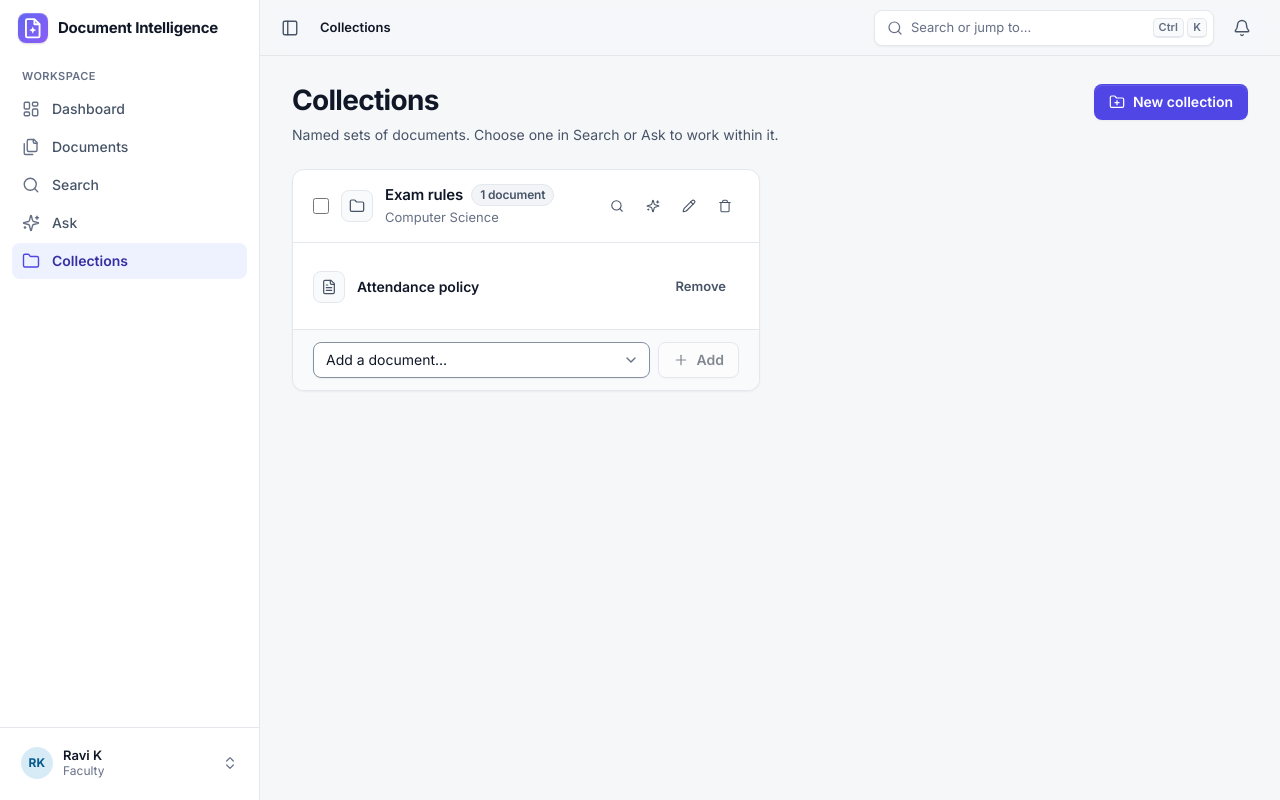
Test: CollectionsPage › deletes one collection after asking, in the page's own dialog
Step 1. Click the button named "Delete Exam rules" → x=725, y=206, box [711,192,739,220]
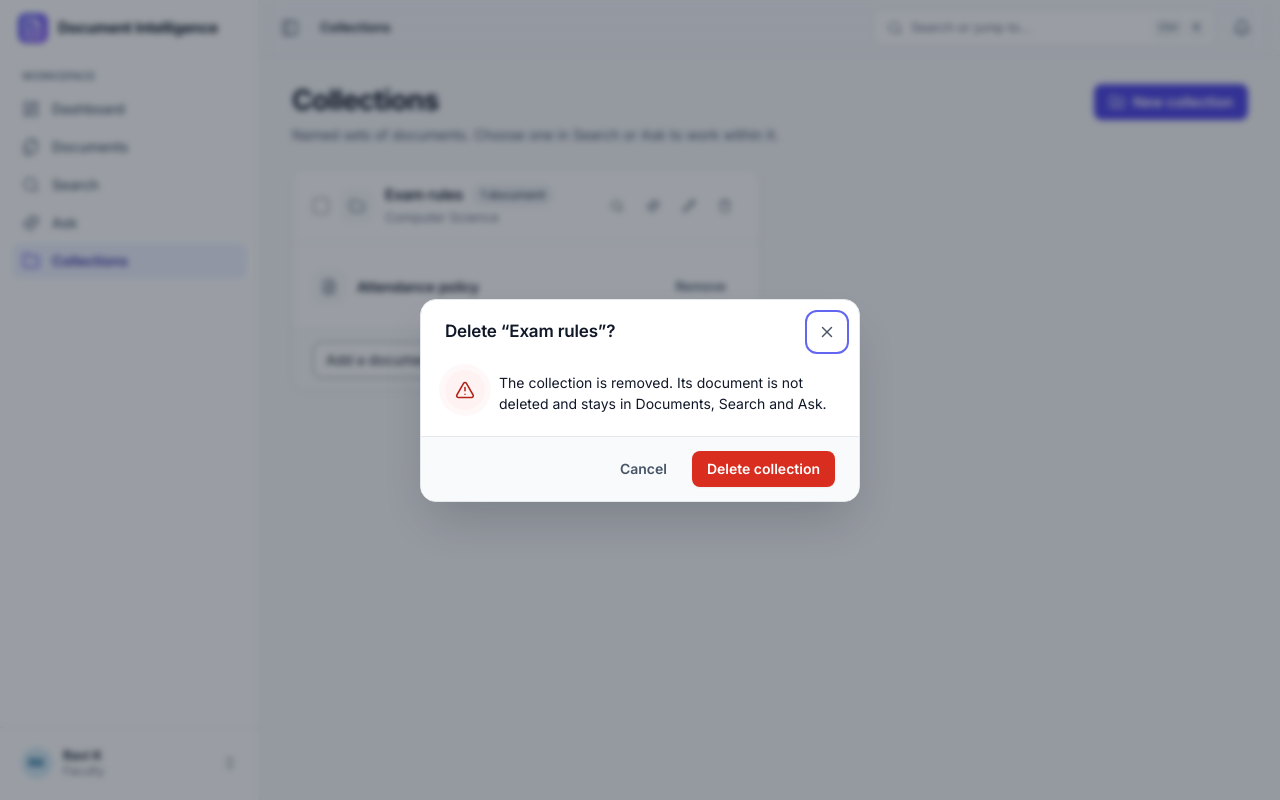
Expected: the text "Its document is not deleted and stays in Documents, Search and Ask." is shown, [499,374,827,412]
Step 2. Click the button "Delete collection" → x=763, y=468, box [692,450,835,486]
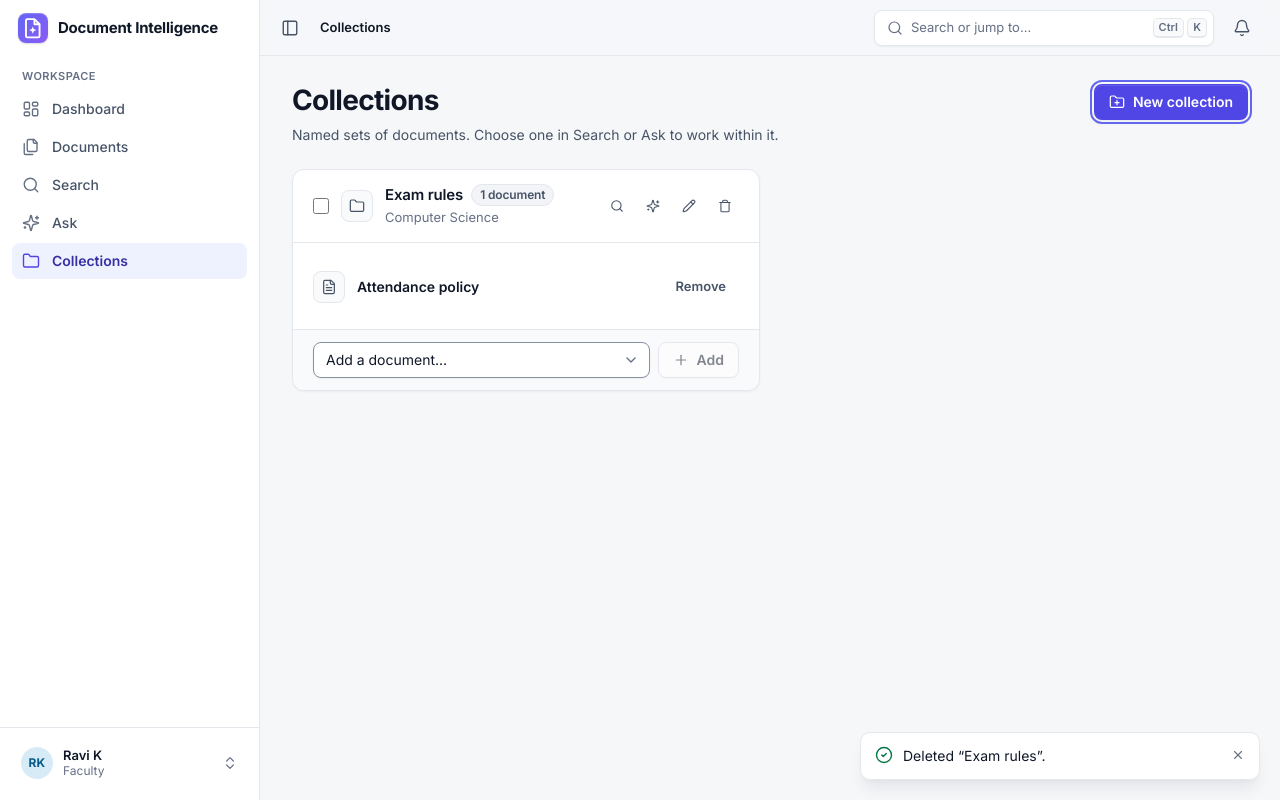
Expected: the text "Deleted “Exam rules”." is shown, [903,747,1046,764]
